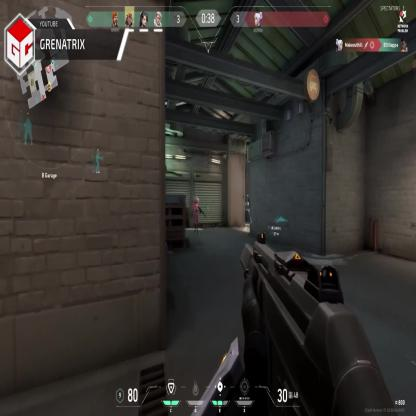enemy: (194, 194, 199, 232)
enemy_head: (196, 197, 199, 203)
